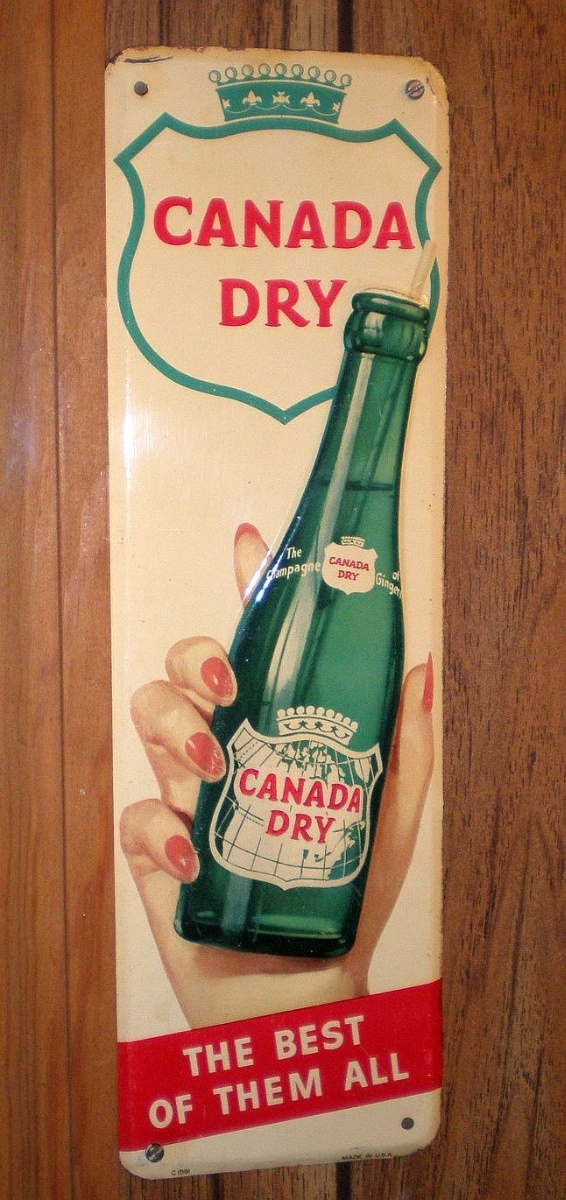text: (401, 195, 417, 253), (161, 195, 176, 253), (177, 195, 192, 253), (193, 195, 208, 253), (209, 195, 224, 253), (225, 195, 240, 253), (241, 195, 256, 253), (257, 195, 272, 253), (273, 195, 288, 253), (289, 195, 304, 253), (305, 195, 320, 253), (321, 195, 336, 253), (337, 195, 352, 253), (353, 195, 368, 253), (369, 195, 384, 253), (385, 195, 400, 253), (225, 276, 240, 329), (241, 276, 256, 329), (257, 276, 272, 329), (273, 276, 288, 329), (289, 276, 304, 329), (305, 276, 320, 329), (321, 276, 336, 329), (257, 766, 272, 815), (273, 766, 288, 815), (289, 766, 304, 815), (305, 766, 320, 815), (321, 766, 336, 815), (337, 766, 352, 815), (225, 1068, 240, 1117), (241, 1068, 256, 1117), (257, 1068, 272, 1117), (273, 1068, 288, 1117), (289, 1068, 304, 1117), (305, 1068, 320, 1117), (289, 1014, 304, 1061), (305, 1014, 320, 1061), (321, 1014, 336, 1061), (337, 1014, 352, 1061), (242, 766, 256, 815), (193, 1036, 208, 1079), (209, 1036, 224, 1079), (225, 1036, 240, 1079), (337, 276, 349, 329), (161, 1091, 176, 1133), (177, 1091, 192, 1133), (353, 1050, 368, 1092), (369, 1050, 384, 1092), (385, 1050, 400, 1092), (275, 1014, 288, 1061), (353, 1014, 366, 1061), (241, 1036, 255, 1079), (146, 1091, 160, 1133), (212, 1068, 224, 1117), (273, 808, 288, 846), (289, 808, 304, 846), (305, 808, 320, 846), (321, 808, 336, 846), (385, 570, 401, 600), (182, 1036, 192, 1079), (401, 1050, 411, 1092), (353, 766, 361, 815), (273, 558, 288, 583), (289, 558, 304, 583), (305, 558, 320, 583), (337, 554, 352, 572), (353, 554, 368, 572), (219, 276, 224, 329), (376, 570, 384, 600), (156, 195, 160, 253), (347, 1050, 352, 1092), (289, 546, 304, 559), (338, 569, 352, 582), (266, 558, 272, 583), (330, 554, 336, 572), (177, 1169, 192, 1176), (353, 569, 361, 582), (321, 1068, 323, 1117), (392, 570, 400, 582), (270, 808, 272, 846), (342, 1154, 352, 1161), (353, 1154, 363, 1161), (375, 1152, 384, 1158), (385, 1152, 393, 1158), (193, 1091, 194, 1133), (285, 546, 288, 559), (337, 808, 338, 846), (369, 554, 371, 572), (171, 1170, 176, 1176), (321, 558, 322, 583), (369, 1154, 373, 1159), (365, 1154, 368, 1159)
